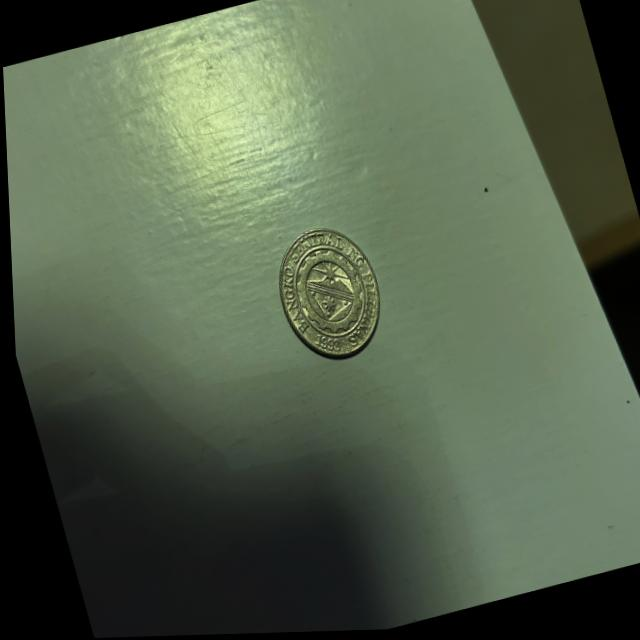1_Old_Back: (277, 236, 374, 352)
